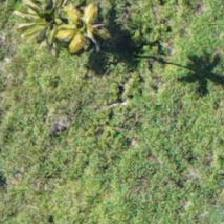coconut_tree: (10, 0, 100, 55)
